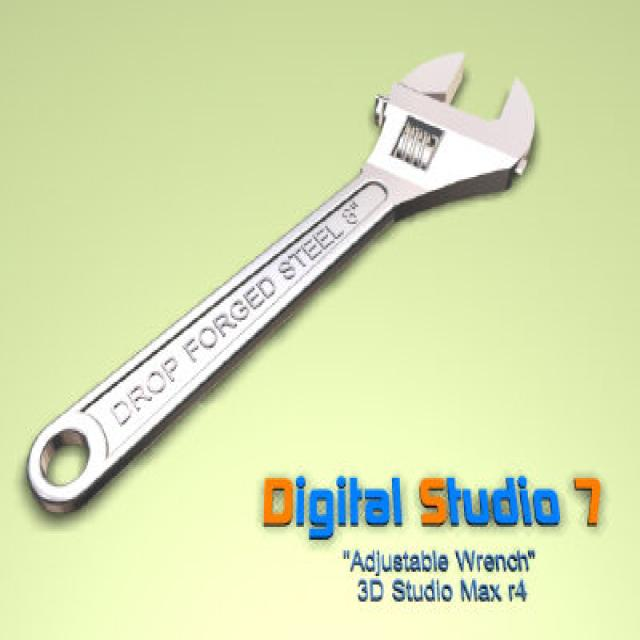wrench: (10, 32, 631, 539)
